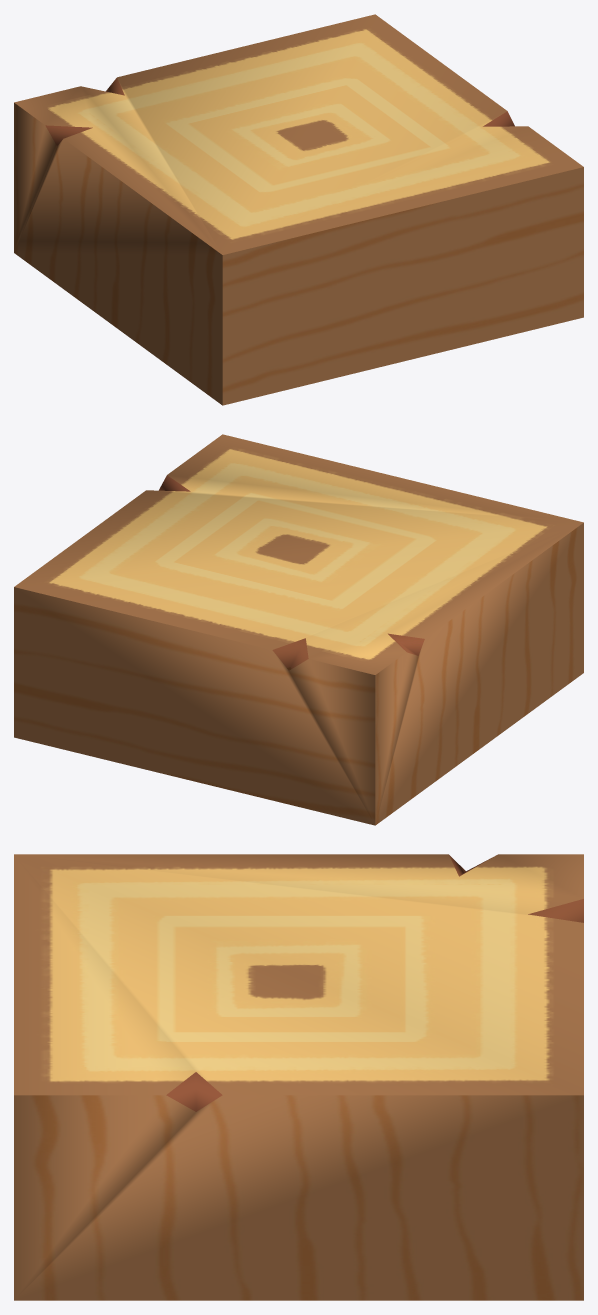
The model's file is Wood3_short.fbx.
The picture shows the model from 3 angles, top to bottom: view 1: azimuth 30°, elevation 25°; view 2: azimuth 150°, elevation 25°; view 3: azimuth 270°, elevation 25°; orthographic projection. The views are drawn at different scales.
Parts seen in each view (by area): view 1: Wood_short; view 2: Wood_short; view 3: Wood_short.
Part boxes in pixels (box(x1,y1,x2,y2)): Wood_short: box(14, 14, 583, 405); Wood_short: box(14, 434, 583, 825); Wood_short: box(14, 854, 583, 1300).
Size of the model in its own units: 82.82 by 32.95 by 82.82.
Materials: 1 (1 with a texture image).
